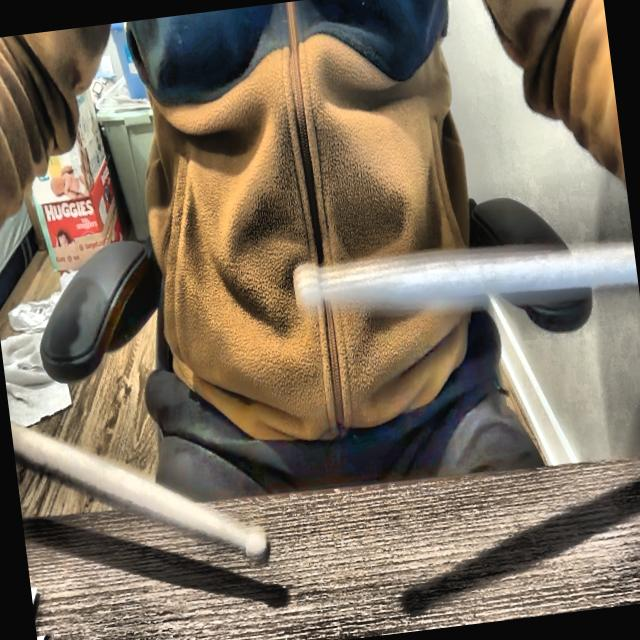Drumstick-Heads: (236, 512, 282, 570), (288, 256, 326, 316)
